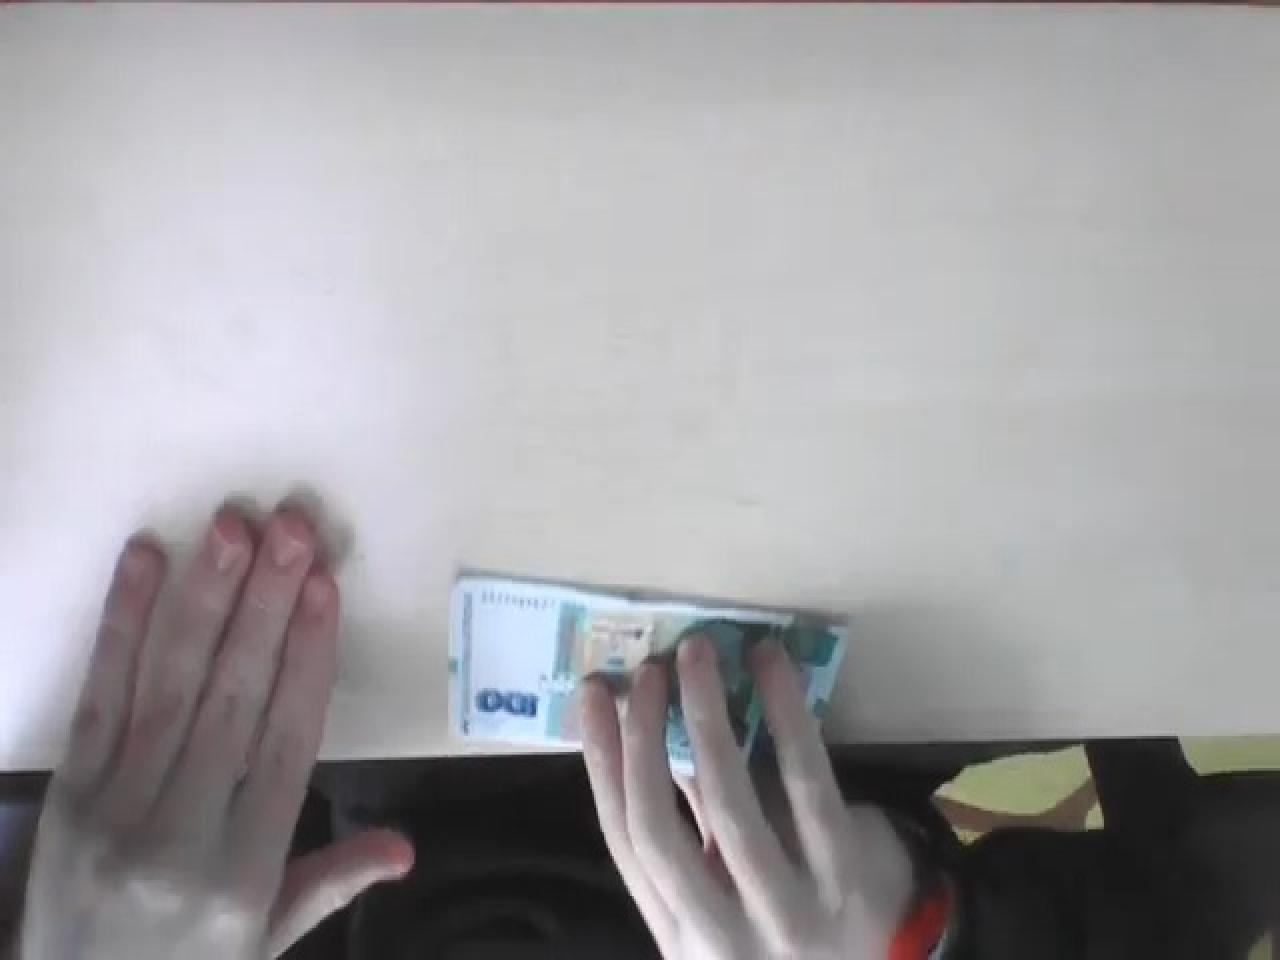100leva: (444, 574, 850, 773), (472, 689, 540, 723)
